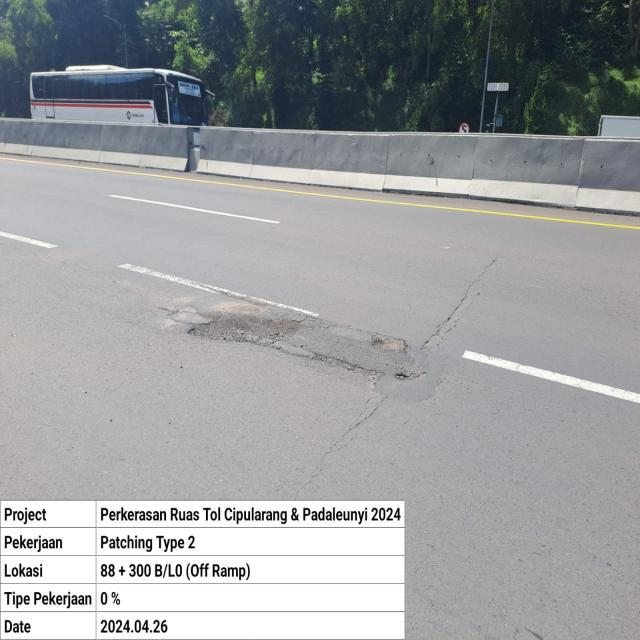Buraco: (185, 308, 308, 348), (368, 330, 411, 355), (392, 367, 429, 383)
